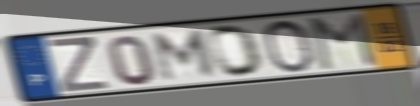0: (104, 31, 158, 87)
M: (308, 11, 380, 72), (151, 28, 218, 84)
O: (207, 22, 265, 79), (260, 17, 317, 75)
Z: (46, 35, 112, 95)
